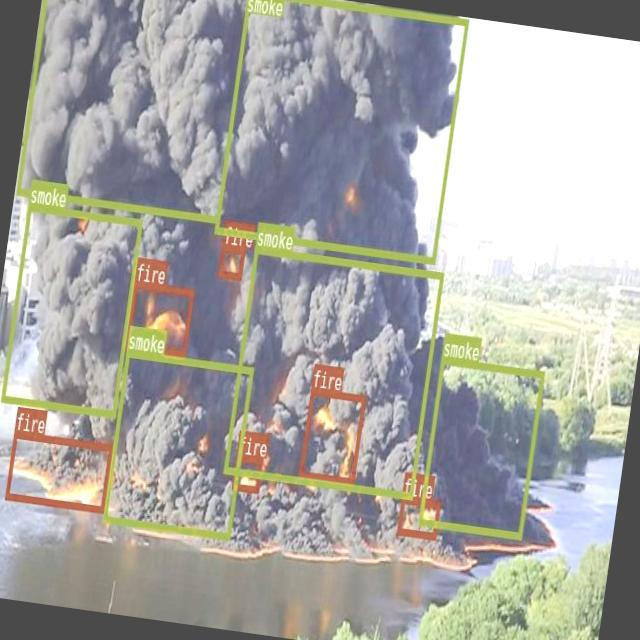fire: (4, 430, 113, 512), (298, 388, 366, 484), (124, 281, 194, 355), (396, 495, 441, 538), (232, 454, 262, 492), (218, 243, 245, 280)
smoke: (214, 0, 469, 263), (224, 246, 444, 499), (15, 0, 251, 221), (0, 202, 142, 417), (102, 348, 254, 538), (418, 356, 544, 538)
